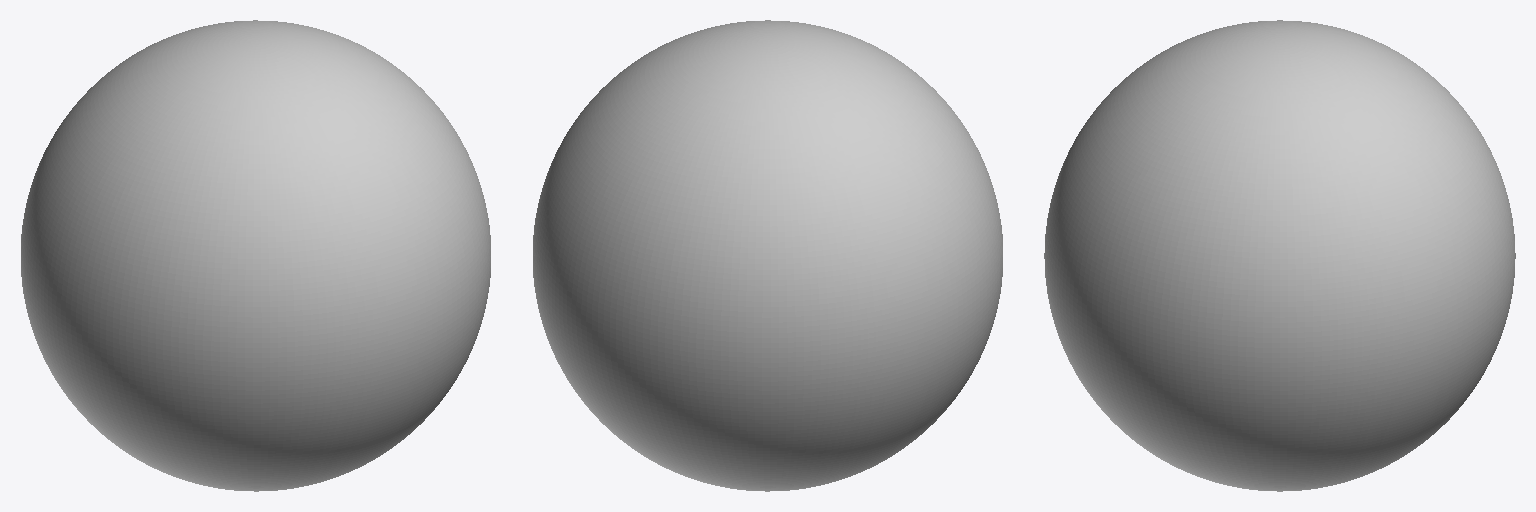
File: earth.obj
3 views of the same model, side by side, from view 1: azimuth 30°, elevation 25°; view 2: azimuth 150°, elevation 25°; view 3: azimuth 270°, elevation 25° (orthographic).
Parts seen in each view (by area): view 1: Sphere.001_Sphere; view 2: Sphere.001_Sphere; view 3: Sphere.001_Sphere.
Boxes of the visible parts, box(x1,y1,x2,y2) form: Sphere.001_Sphere: box(21, 20, 490, 491); Sphere.001_Sphere: box(533, 20, 1002, 491); Sphere.001_Sphere: box(1044, 20, 1515, 491).
Size of the model in its own units: 2 by 2 by 2.